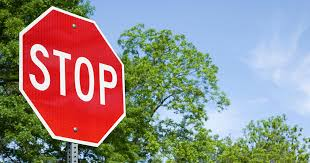stop sign: (18, 6, 127, 147)
